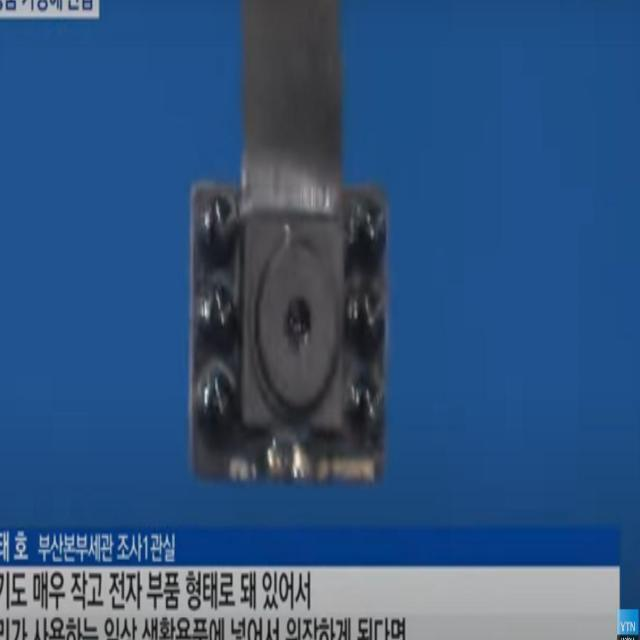hidden camera: (258, 235, 341, 414)
